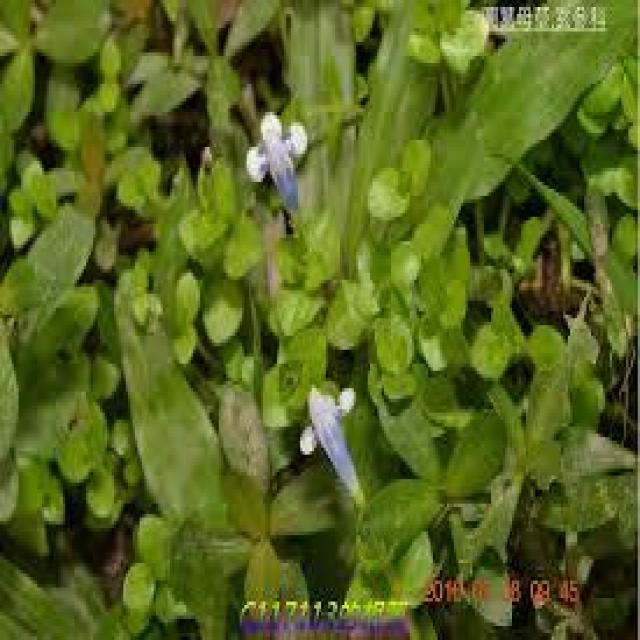organic waste: (291, 378, 382, 524), (241, 98, 311, 224)
